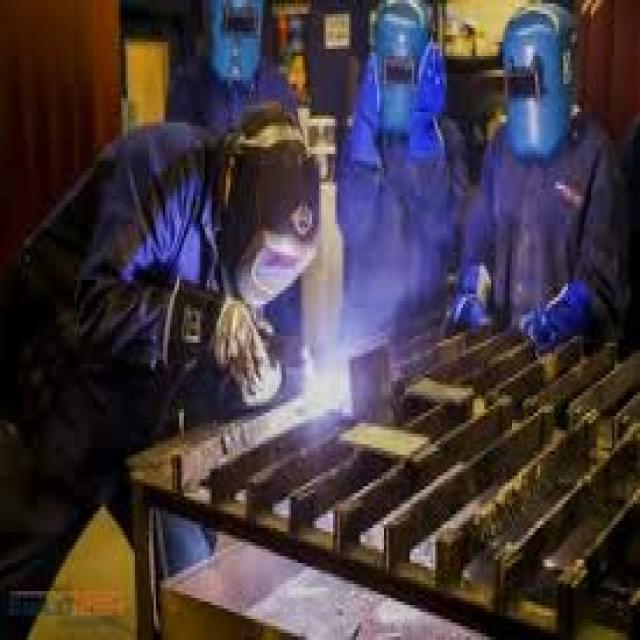welding: (303, 359, 349, 404)
